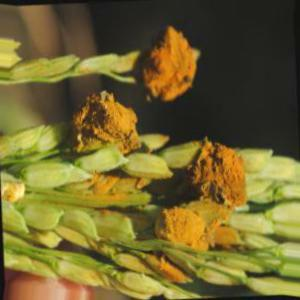Leaf_Scald: (73, 99, 147, 153), (202, 144, 248, 221), (148, 38, 202, 96), (157, 210, 224, 250), (148, 260, 188, 297)
